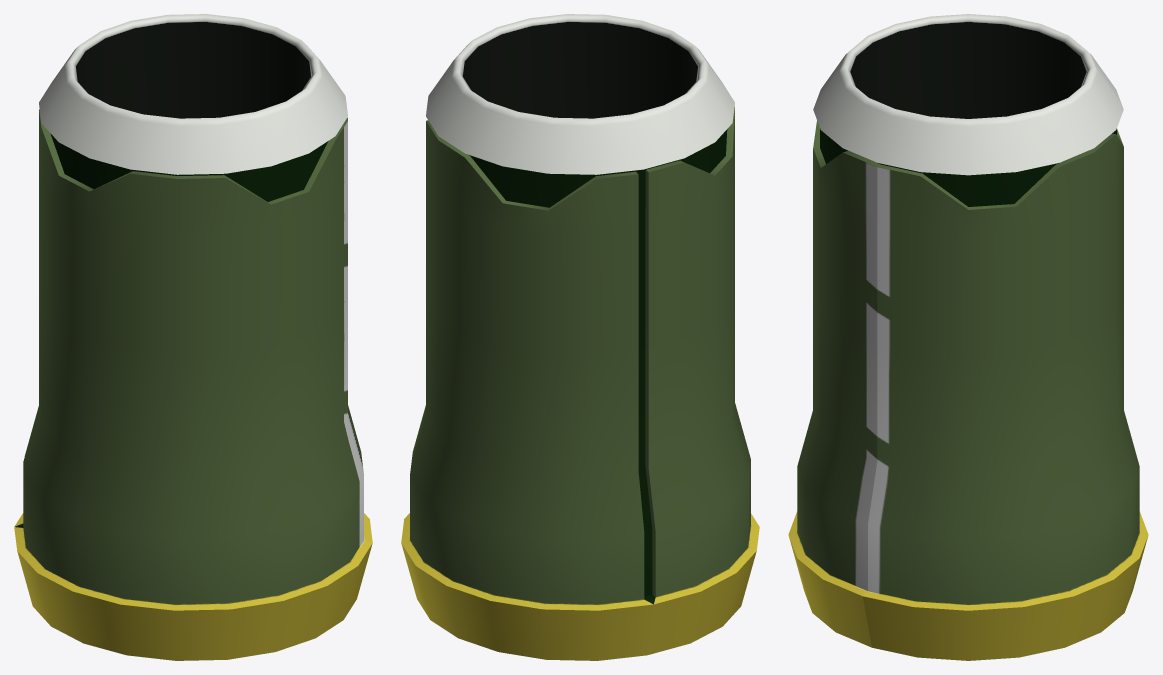
Rendered from PJ Can With Texture.fbx.
The picture shows the model from 3 angles, left to right: view 1: azimuth 30°, elevation 25°; view 2: azimuth 150°, elevation 25°; view 3: azimuth 270°, elevation 25°; orthographic projection.
Visible parts, largest first — view 1: Rubbish_Bin; view 2: Rubbish_Bin; view 3: Rubbish_Bin.
Boxes of the visible parts, bbox=[...] form: Rubbish_Bin: bbox=[14, 14, 372, 660]; Rubbish_Bin: bbox=[401, 14, 759, 660]; Rubbish_Bin: bbox=[788, 14, 1148, 660].
Bounding box in the file's own units: 4.2 × 6.75 × 4.2.
